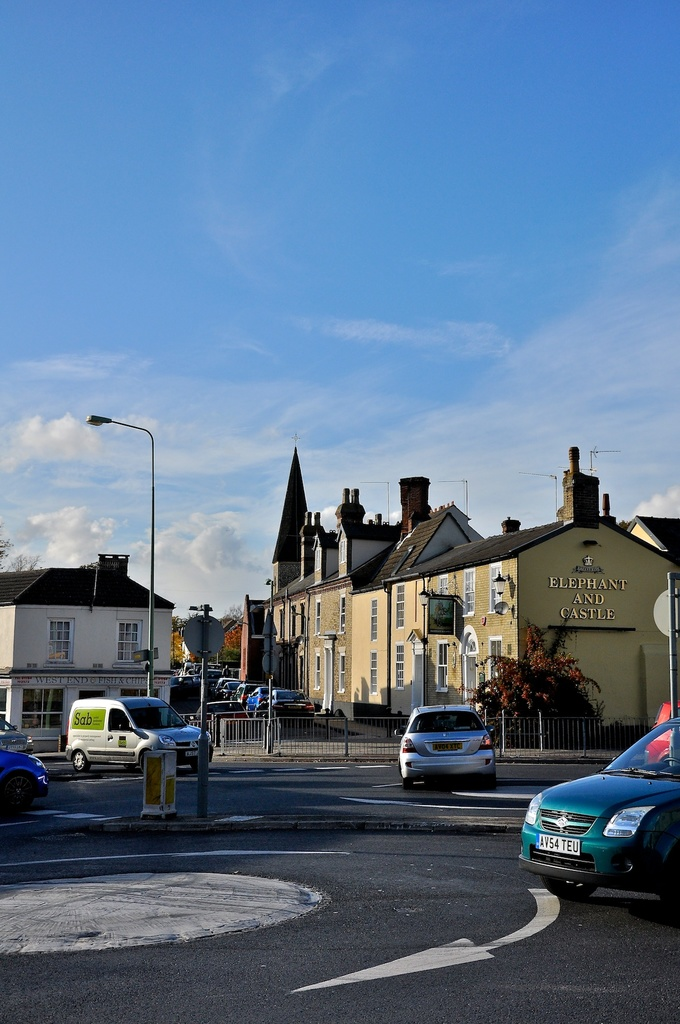Car: (520, 741, 672, 897), (62, 689, 210, 766), (388, 704, 502, 785), (204, 666, 319, 721), (0, 752, 56, 819), (644, 695, 679, 766), (0, 721, 31, 754)
